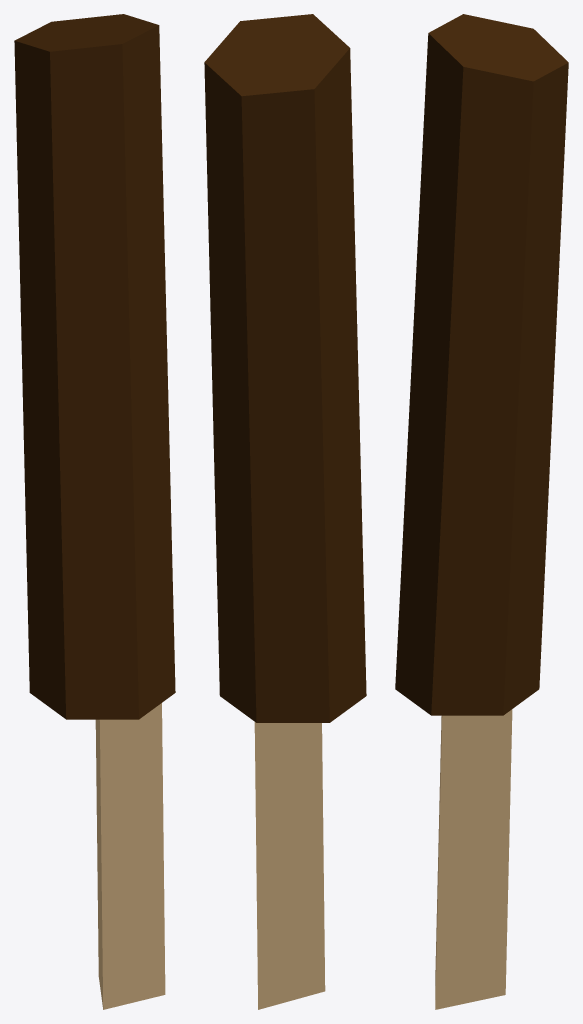
Rendered from CandylandChocStick.fbx.
The picture shows the model from 3 angles, left to right: view 1: azimuth 30°, elevation 25°; view 2: azimuth 150°, elevation 25°; view 3: azimuth 270°, elevation 25°; orthographic projection.
Visible parts, largest first — view 1: Cylinder.014; view 2: Cylinder.014; view 3: Cylinder.014.
Part boxes in pixels (x1,y1,x2,y2): Cylinder.014: [14, 14, 175, 1009]; Cylinder.014: [204, 14, 366, 1009]; Cylinder.014: [395, 14, 568, 1009].
Bounding box in the file's own units: 50.68 × 427 × 70.44.
